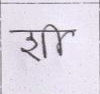i_matra: (46, 24, 66, 56)
